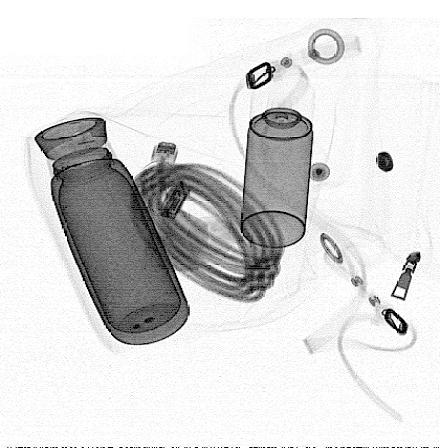Sprayer: (238, 78, 317, 250)
